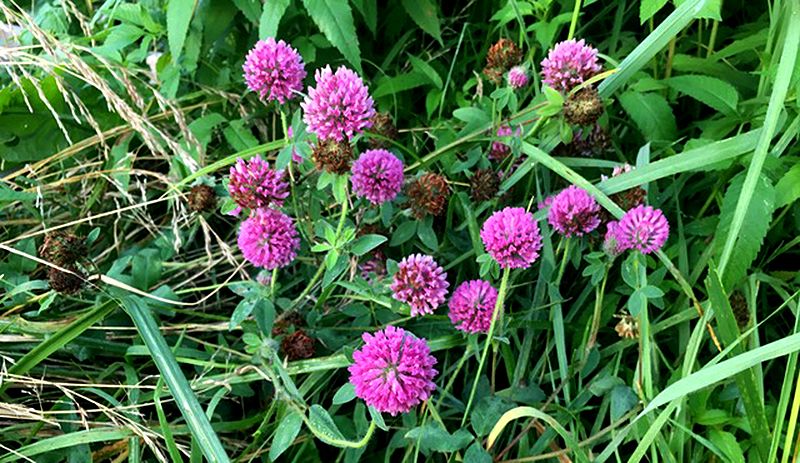clover: (221, 14, 682, 443)
